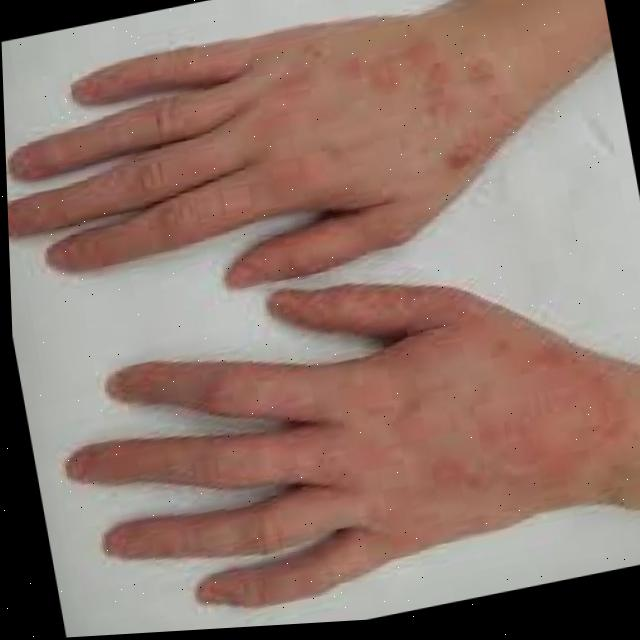Eczema: (332, 347, 615, 541), (257, 0, 531, 170)
